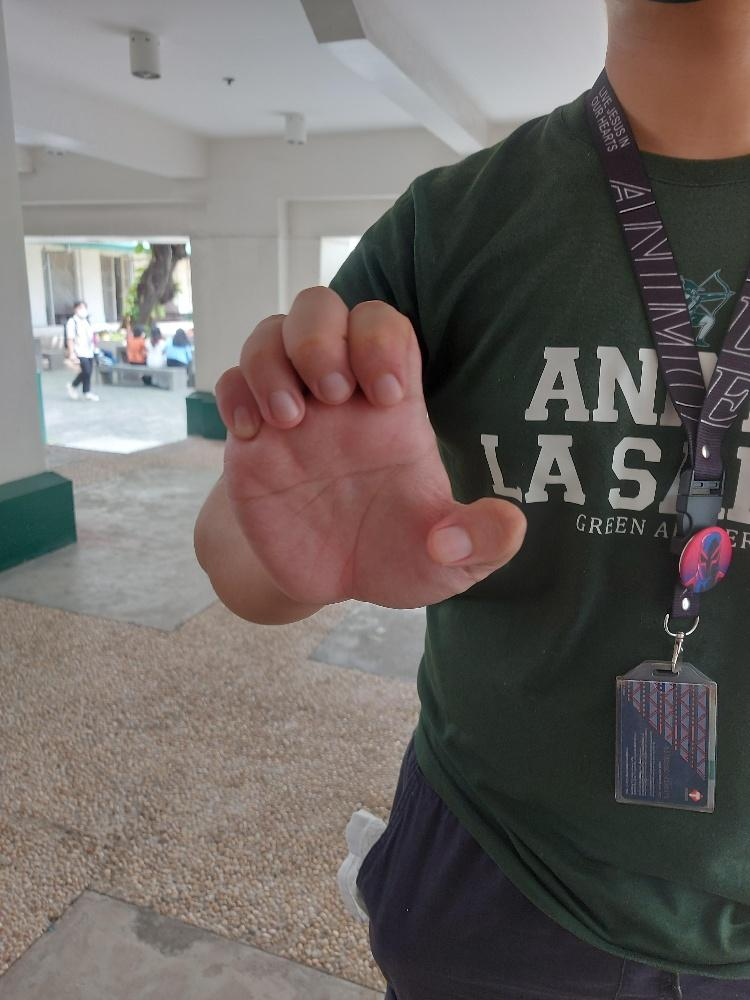e: (211, 282, 529, 611)
